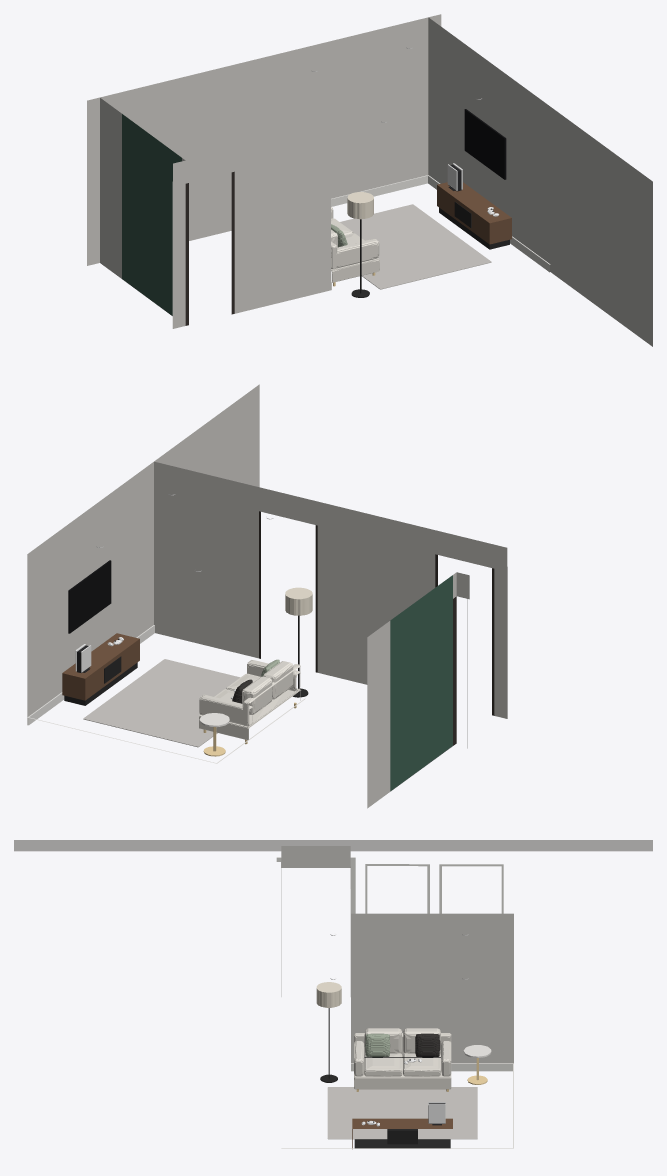
File: ALPHA.glb
The picture shows the model from 3 angles, top to bottom: view 1: azimuth 30°, elevation 25°; view 2: azimuth 150°, elevation 25°; view 3: azimuth 270°, elevation 25°; orthographic projection. The views are drawn at different scales.
Visible parts, largest first — view 1: WEB_ALPHA; view 2: WEB_ALPHA; view 3: WEB_ALPHA.
Part boxes in pixels (x1,y1,x2,y2): WEB_ALPHA: (87,14,652,346); WEB_ALPHA: (27,384,507,808); WEB_ALPHA: (14,840,652,1149).
Bounding box in the file's own units: 5.61 × 2.5 × 9.2.
